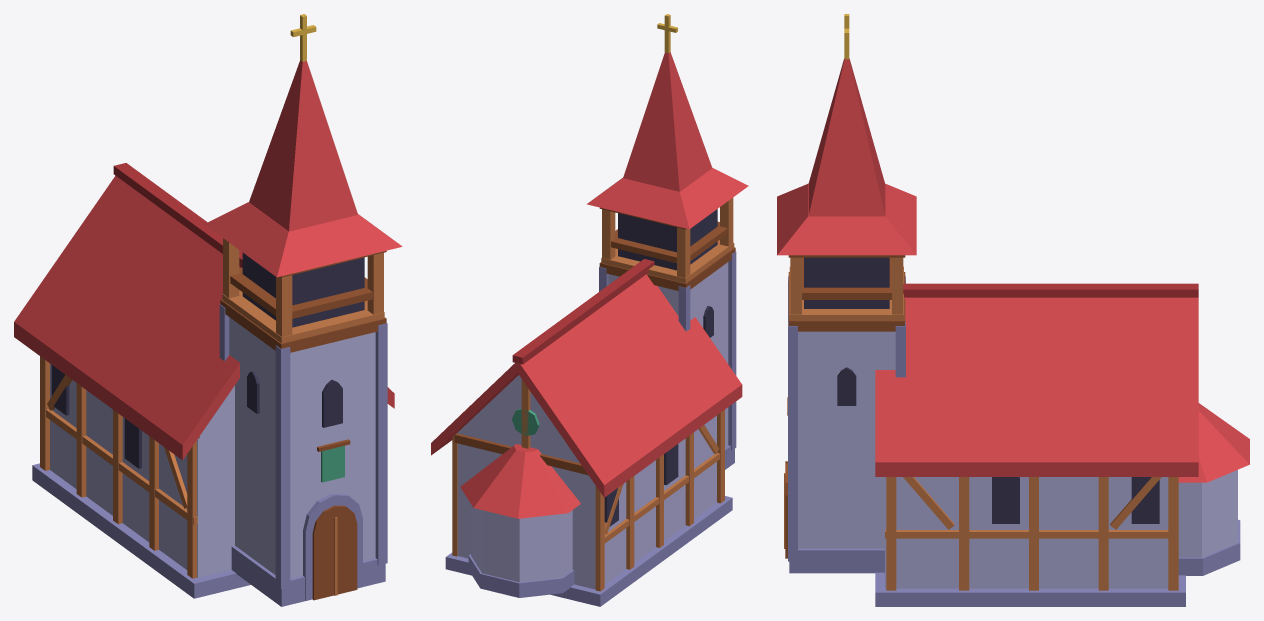
File: catholic-church.glb
3 views of the same model, side by side, from view 1: azimuth 30°, elevation 25°; view 2: azimuth 150°, elevation 25°; view 3: azimuth 270°, elevation 25° (orthographic). The views are drawn at different scales.
Visible parts, largest first — view 1: Church; view 2: Church; view 3: Church.
Part boxes in pixels (bbox=[...]): Church: bbox=[14, 14, 402, 606]; Church: bbox=[431, 14, 748, 606]; Church: bbox=[777, 14, 1249, 606].
Size of the model in its own units: 3.7 by 9.53 by 7.45.
